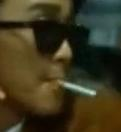smoke: (52, 77, 97, 98)
